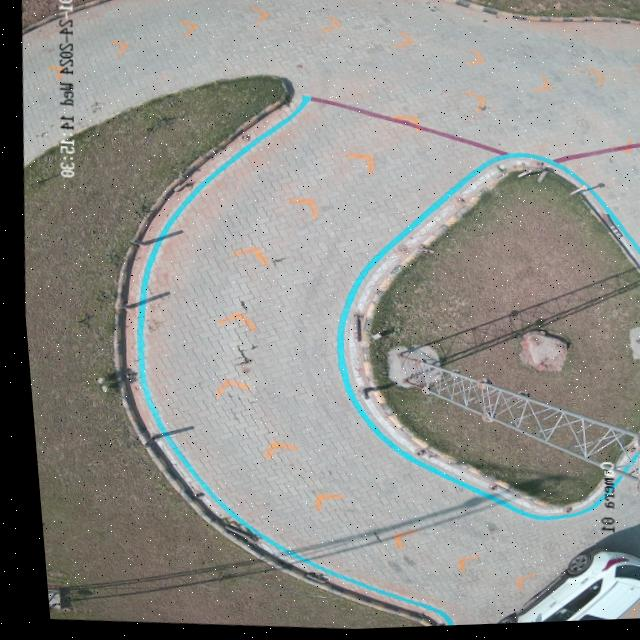car: (484, 552, 640, 627)
